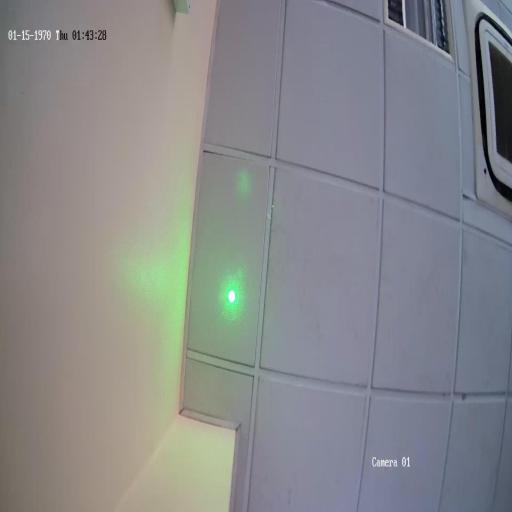laser: (218, 272, 246, 323)
